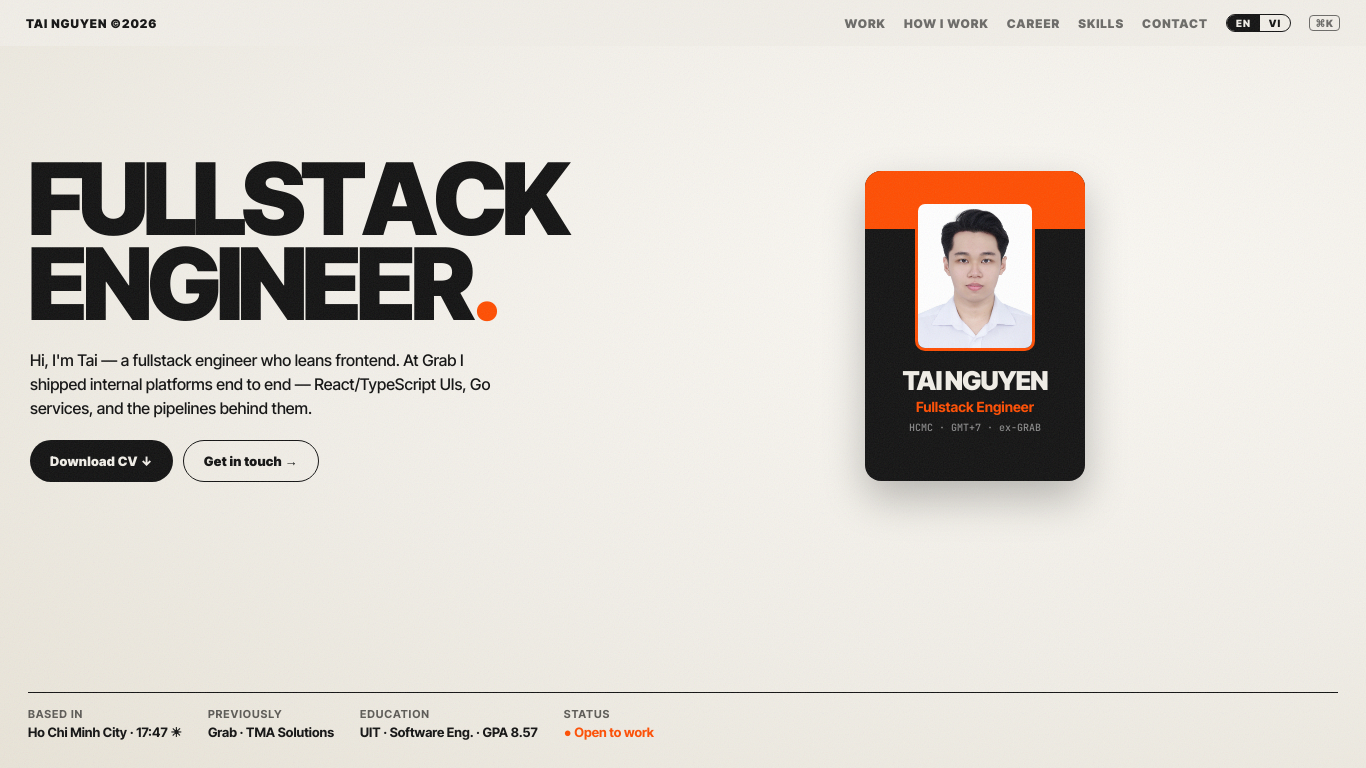
arrows move aria-activedescendant; Escape closes and restores focus to opener
This screenshot has width=1366, height=768.
Click the button "⌘K". click: (1325, 23)
box: [1309,15,1340,31]
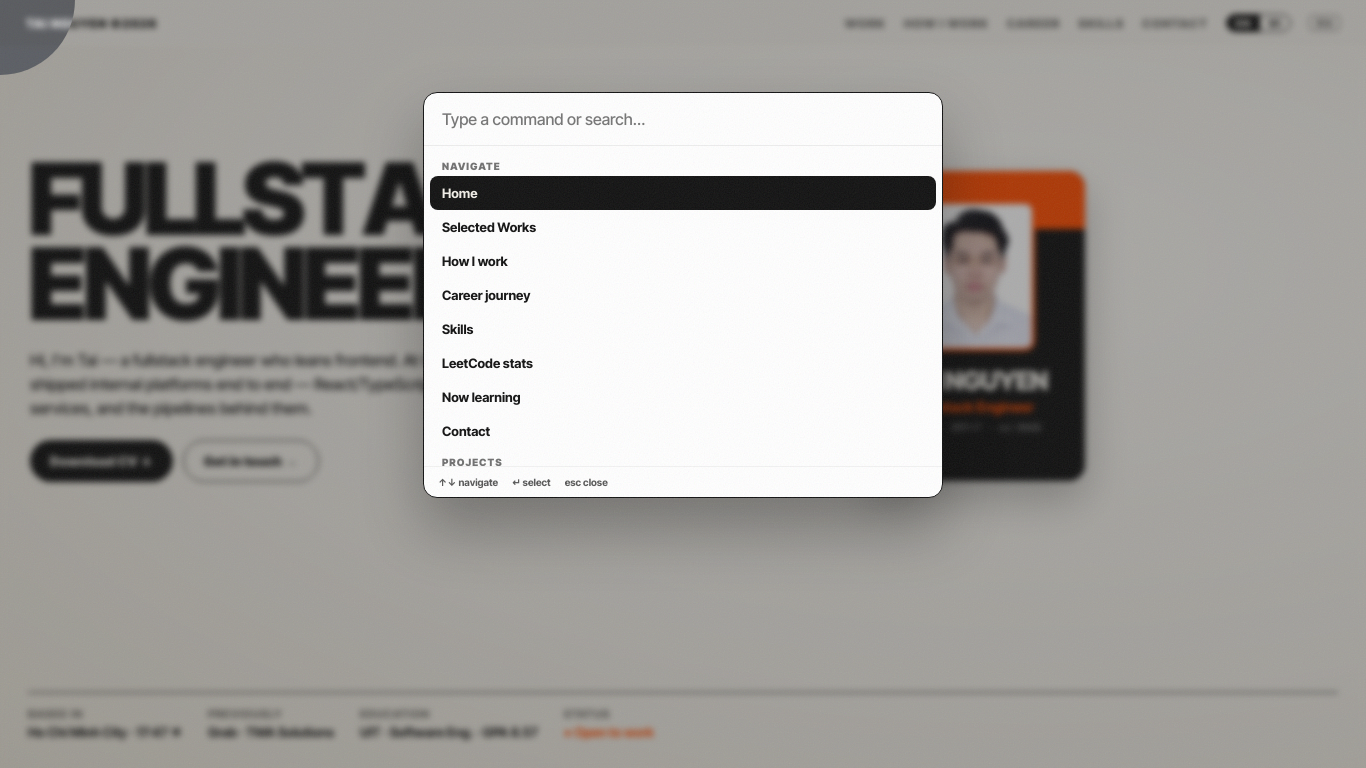
Press Arrowdown
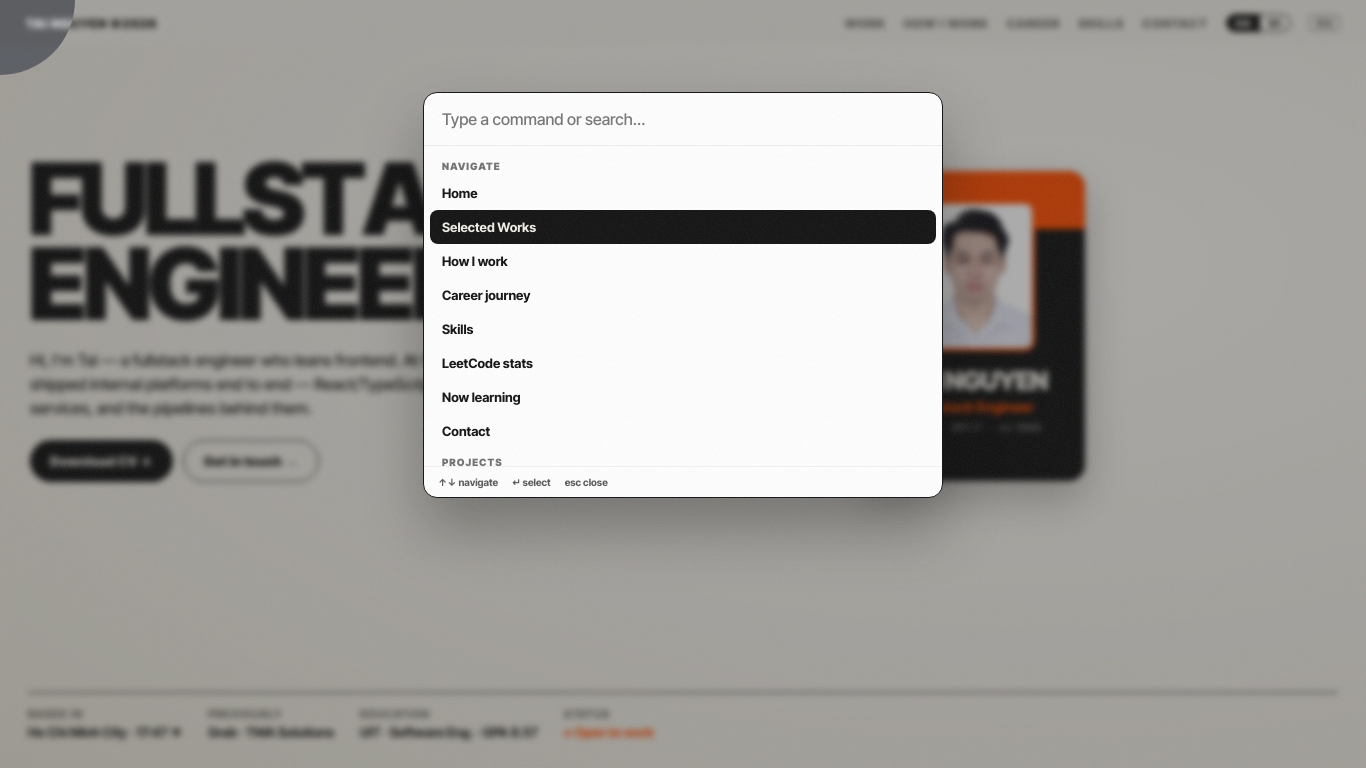
Press Escape
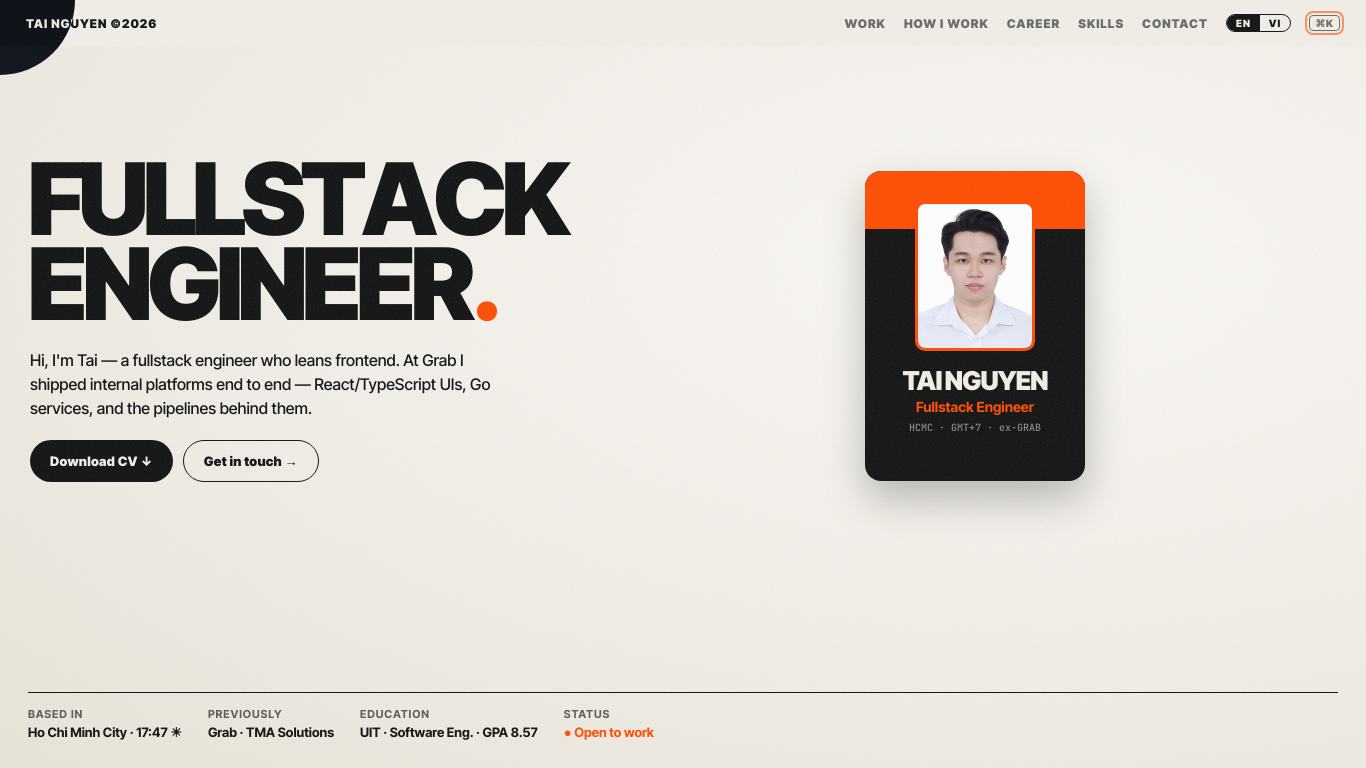
Check: the dropdown is gone
